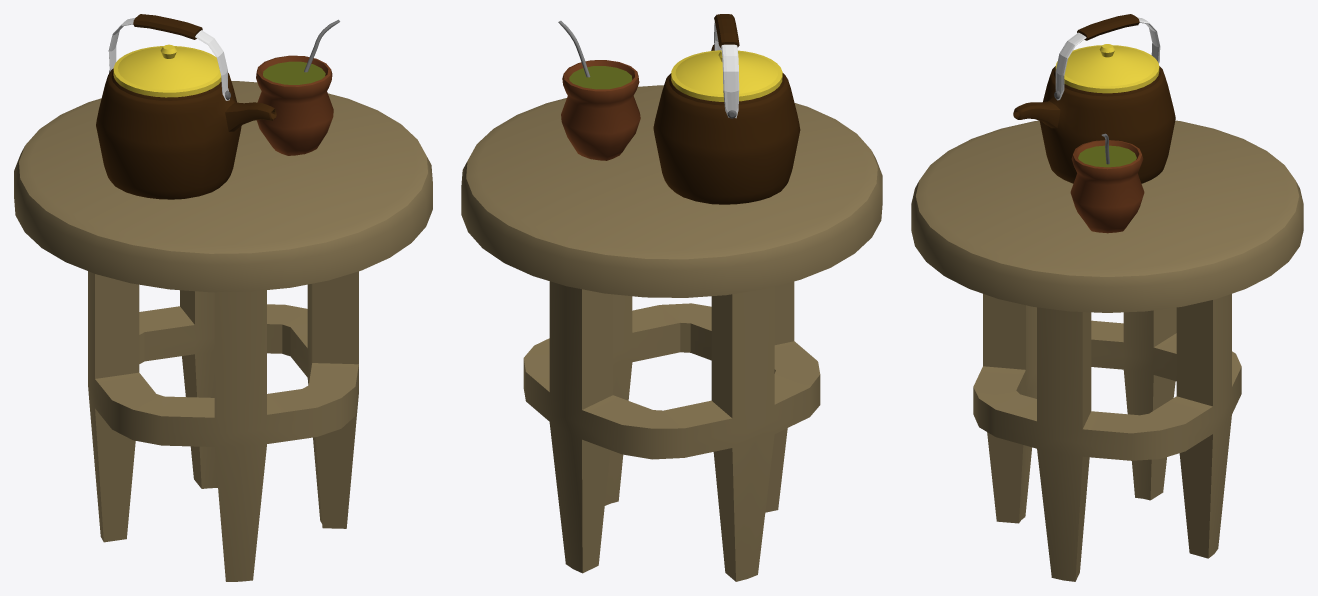
Rendered from mateypava.fbx.
3 views of the same model, side by side, from view 1: azimuth 30°, elevation 25°; view 2: azimuth 150°, elevation 25°; view 3: azimuth 270°, elevation 25° (orthographic). The views are drawn at different scales.
Parts seen in each view (by area): view 1: Plane; view 2: Plane; view 3: Plane.
Part boxes in pixels (<box>): Plane: <box>14,14,432,581</box>; Plane: <box>461,14,882,581</box>; Plane: <box>911,14,1303,581</box>.
Size of the model in its own units: 68.97 by 94.63 by 68.97.
